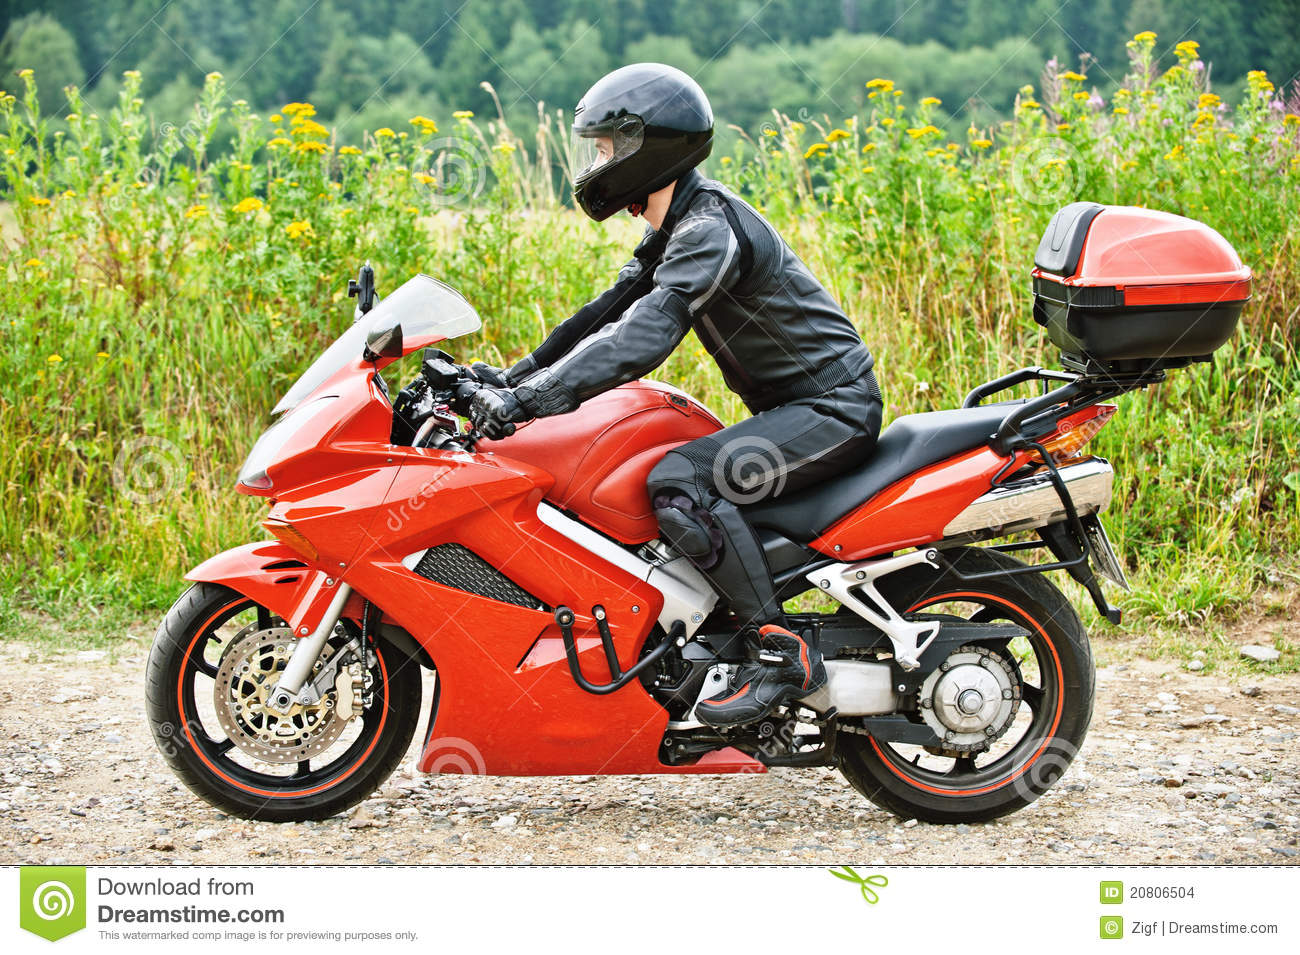helmet: (562, 65, 720, 198)
